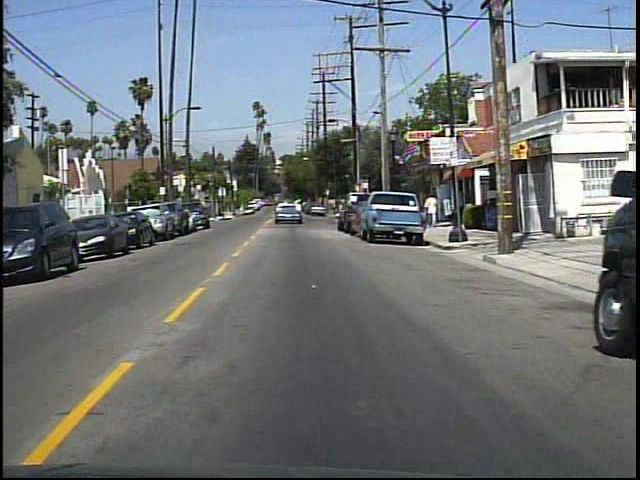person: (424, 190, 441, 230)
